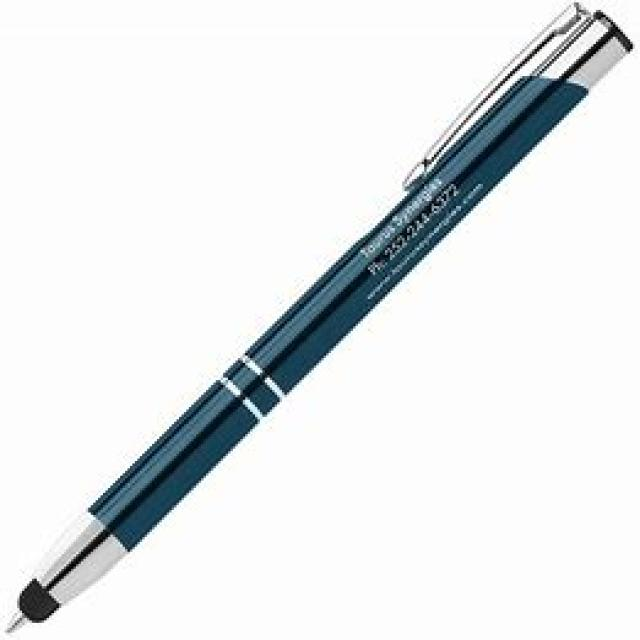pen: (0, 2, 634, 640)
